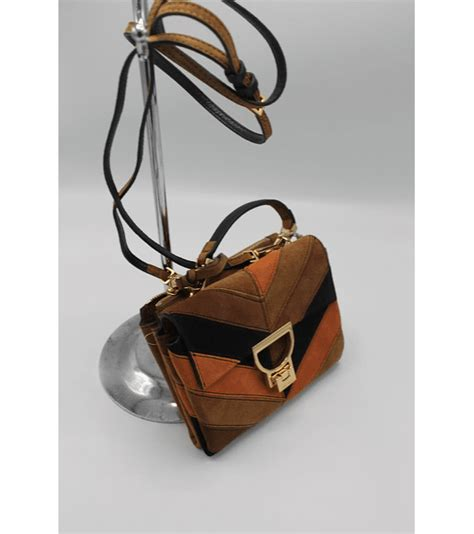gamuza: (138, 227, 347, 459)
